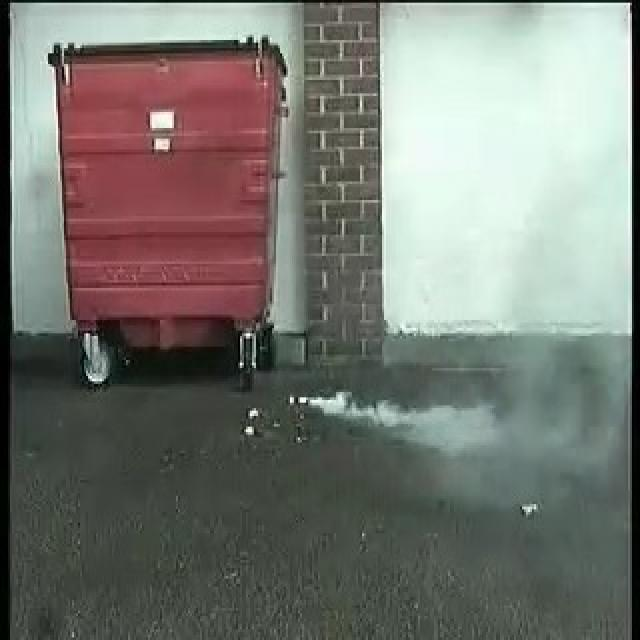smoke: (308, 385, 535, 455)
